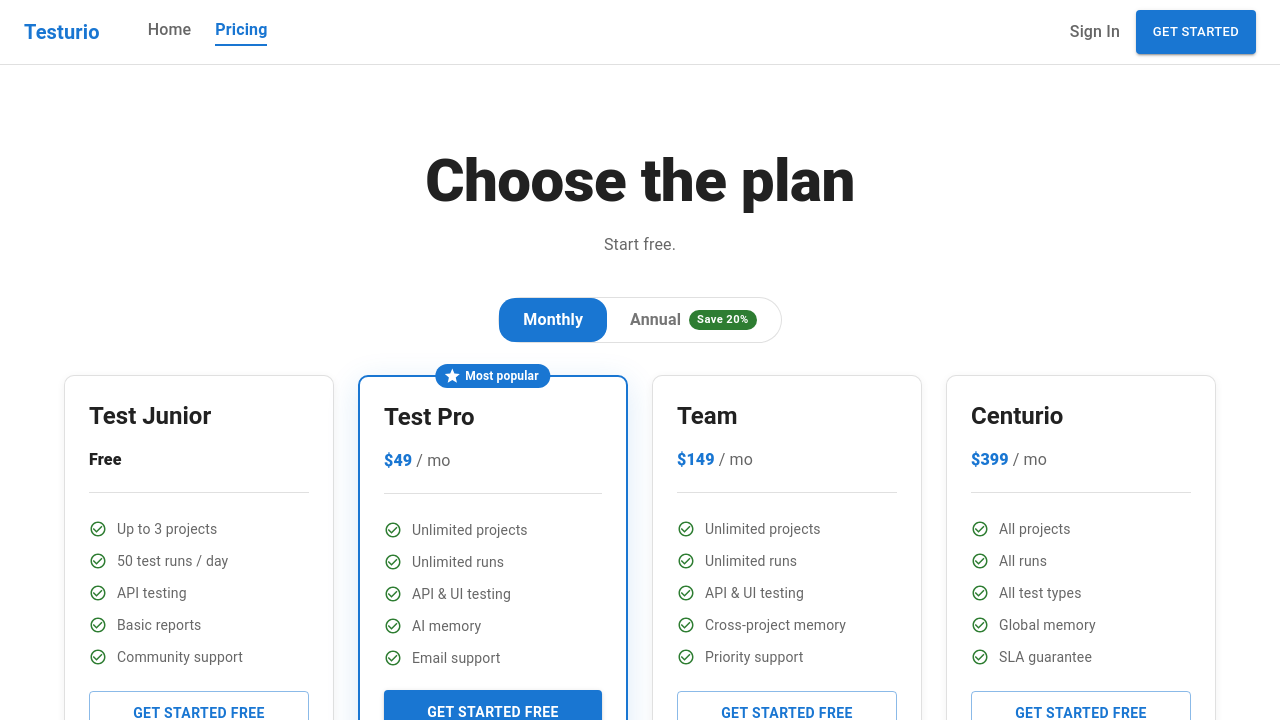
Test: PricingPage › toggling to Annual updates all card prices simultaneously
Expected: the text "$49" is shown, x1=384 y1=449 x2=412 y2=473
# Toggle to Annual
Click the button "Annual Save 20%".
click(693, 320)  # box x1=606 y1=298 x2=781 y2=342
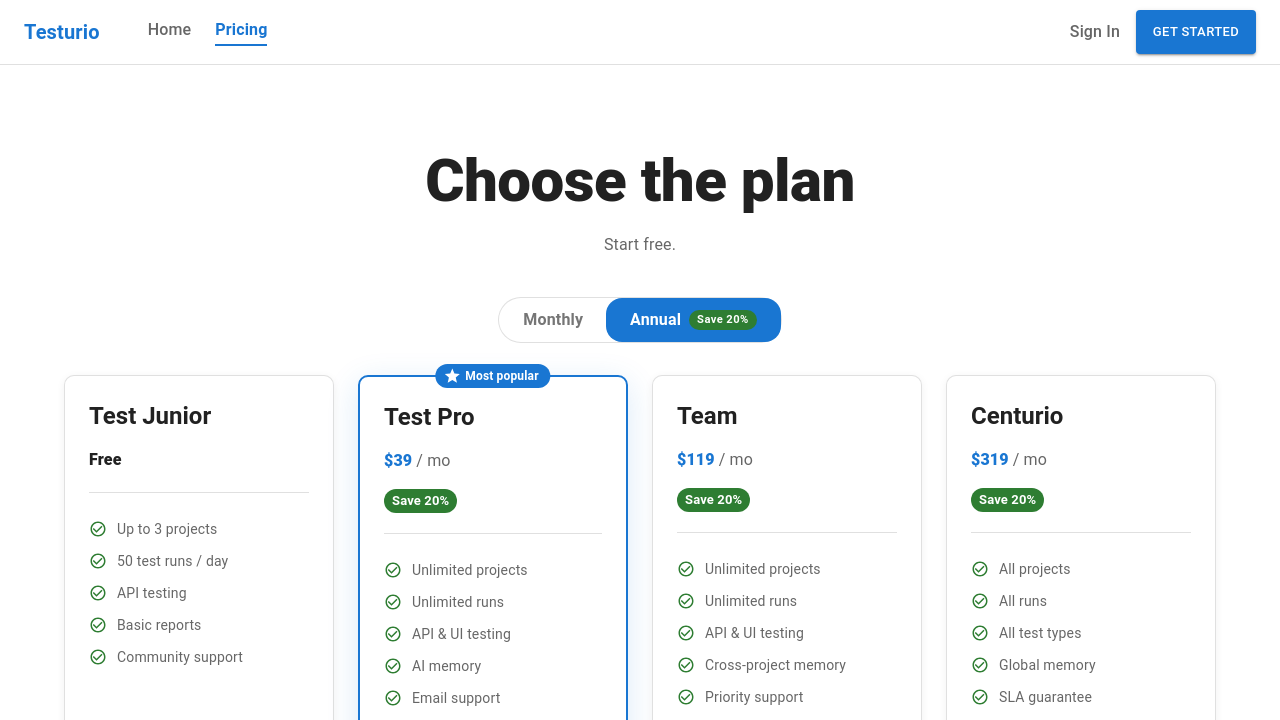
Now the text "$39" is shown, box x1=384 y1=449 x2=412 y2=473
Now the text "$49" is gone
